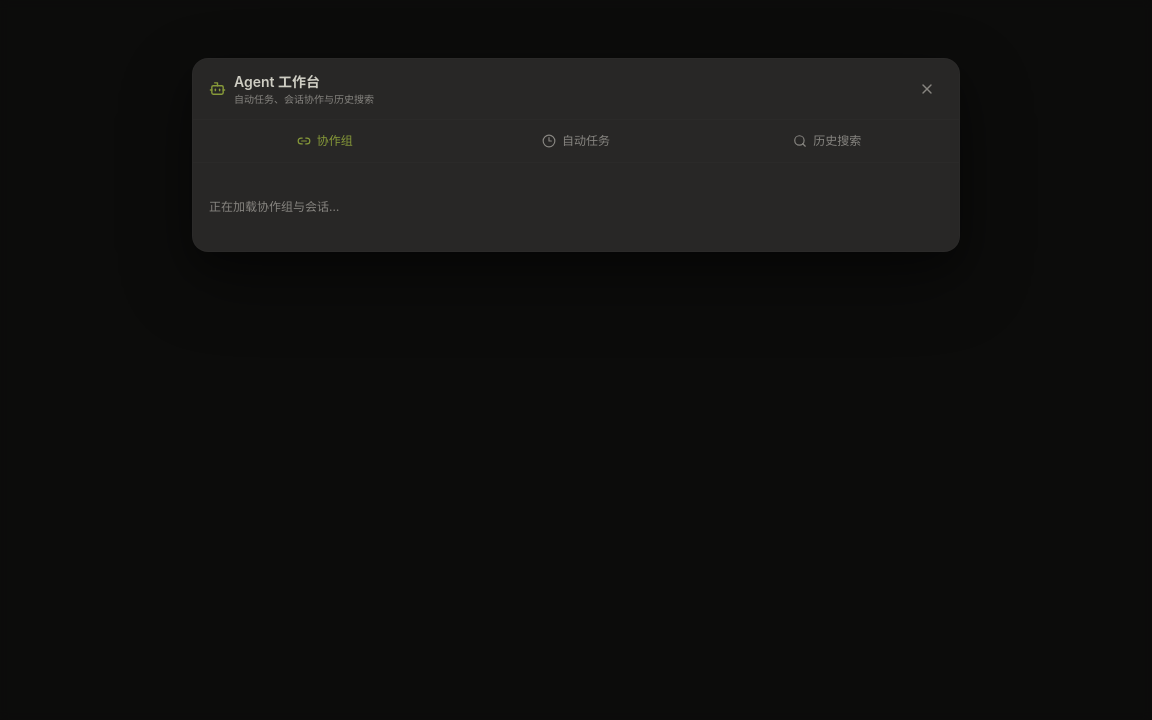
Test: AgentOperationsPanel › distinguishes pending and failed collaboration requests from an empty list and supports retry
Click the button "协作组": (325, 141) [201,124,448,158]
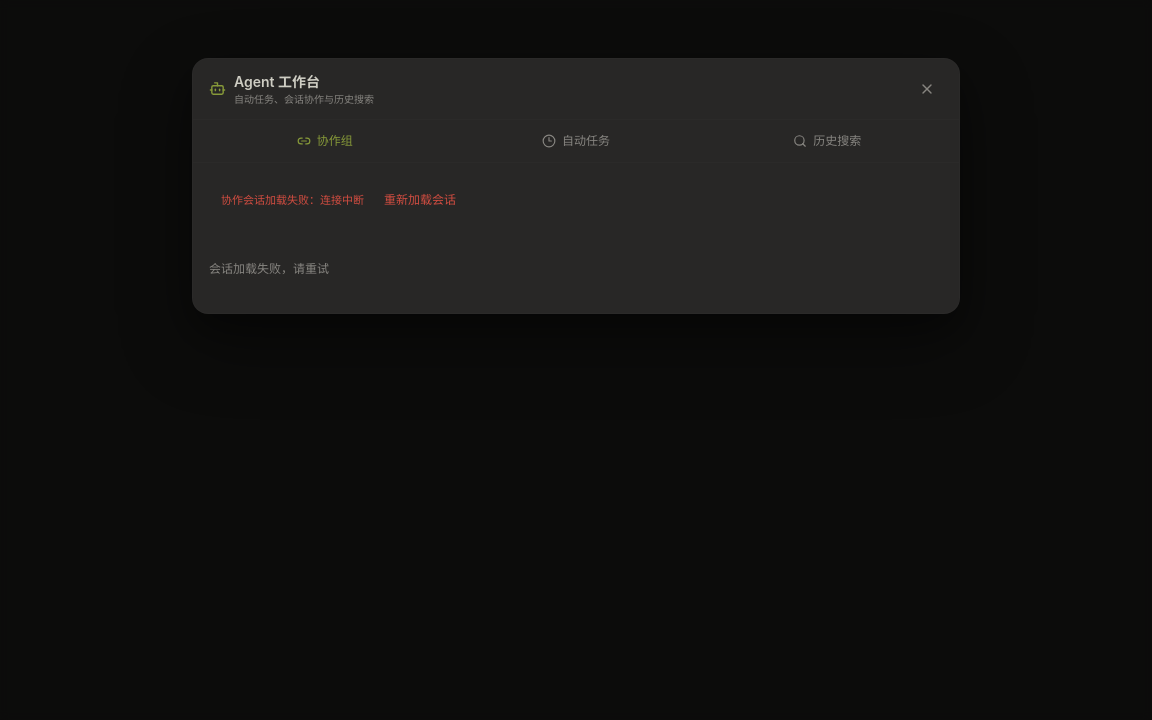
Expected: the text "会话加载失败，请重试" is shown, [209,261,329,276]
Click the button "重新加载会话": (420, 200) [372,183,468,217]
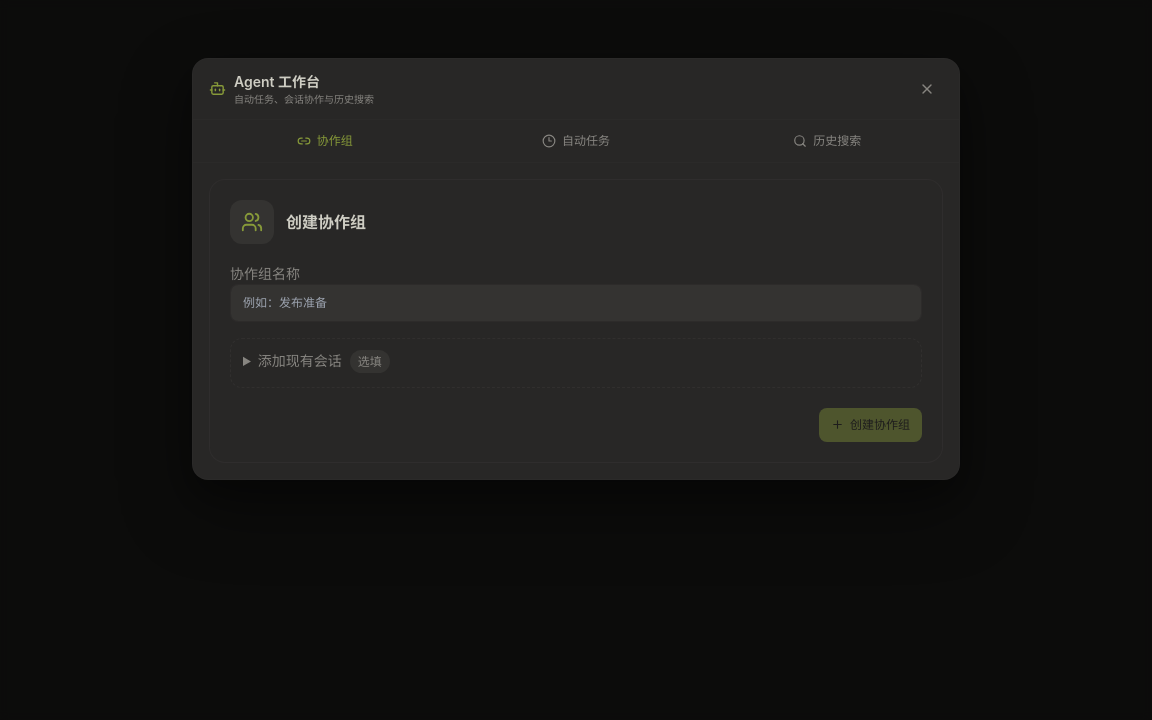
Expected: the text "会话加载失败，请重试" is gone
